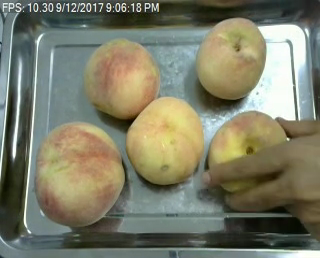Peach: (34, 121, 125, 228), (124, 95, 204, 185), (194, 15, 267, 98), (85, 36, 158, 118), (208, 110, 287, 167)
